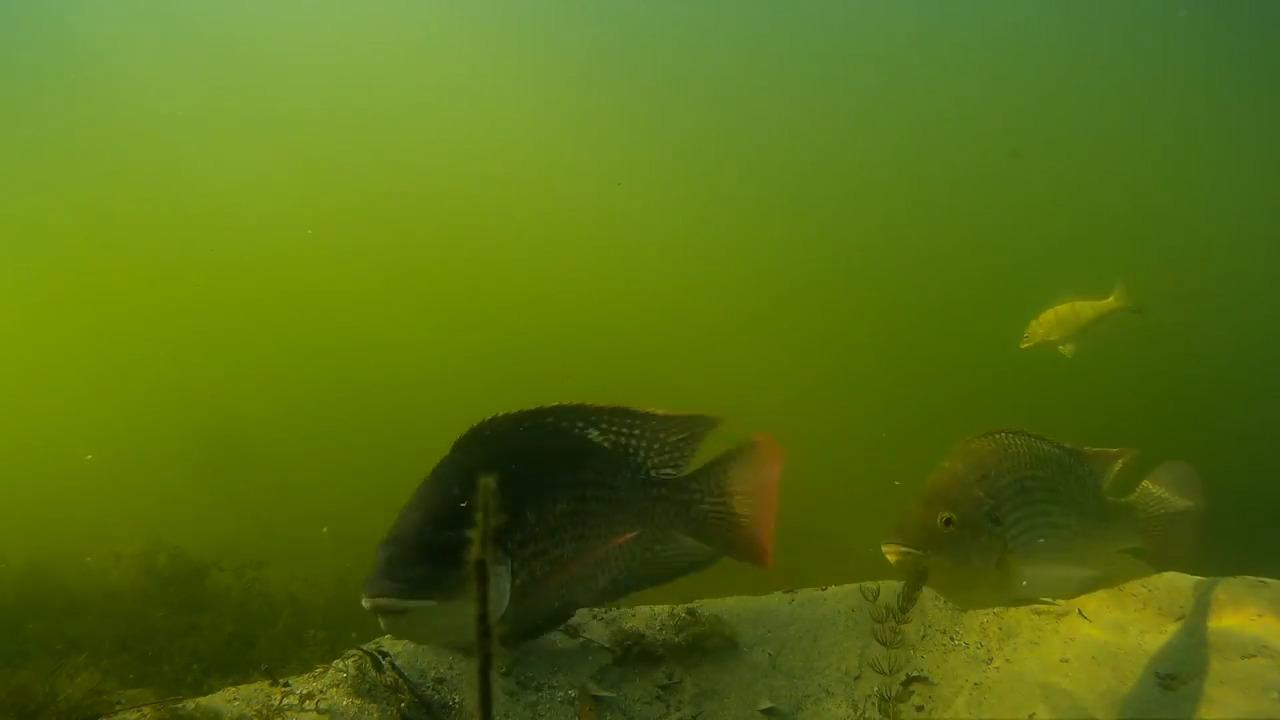Tilapia: (346, 390, 807, 664), (885, 402, 1224, 642), (1005, 270, 1142, 366)
